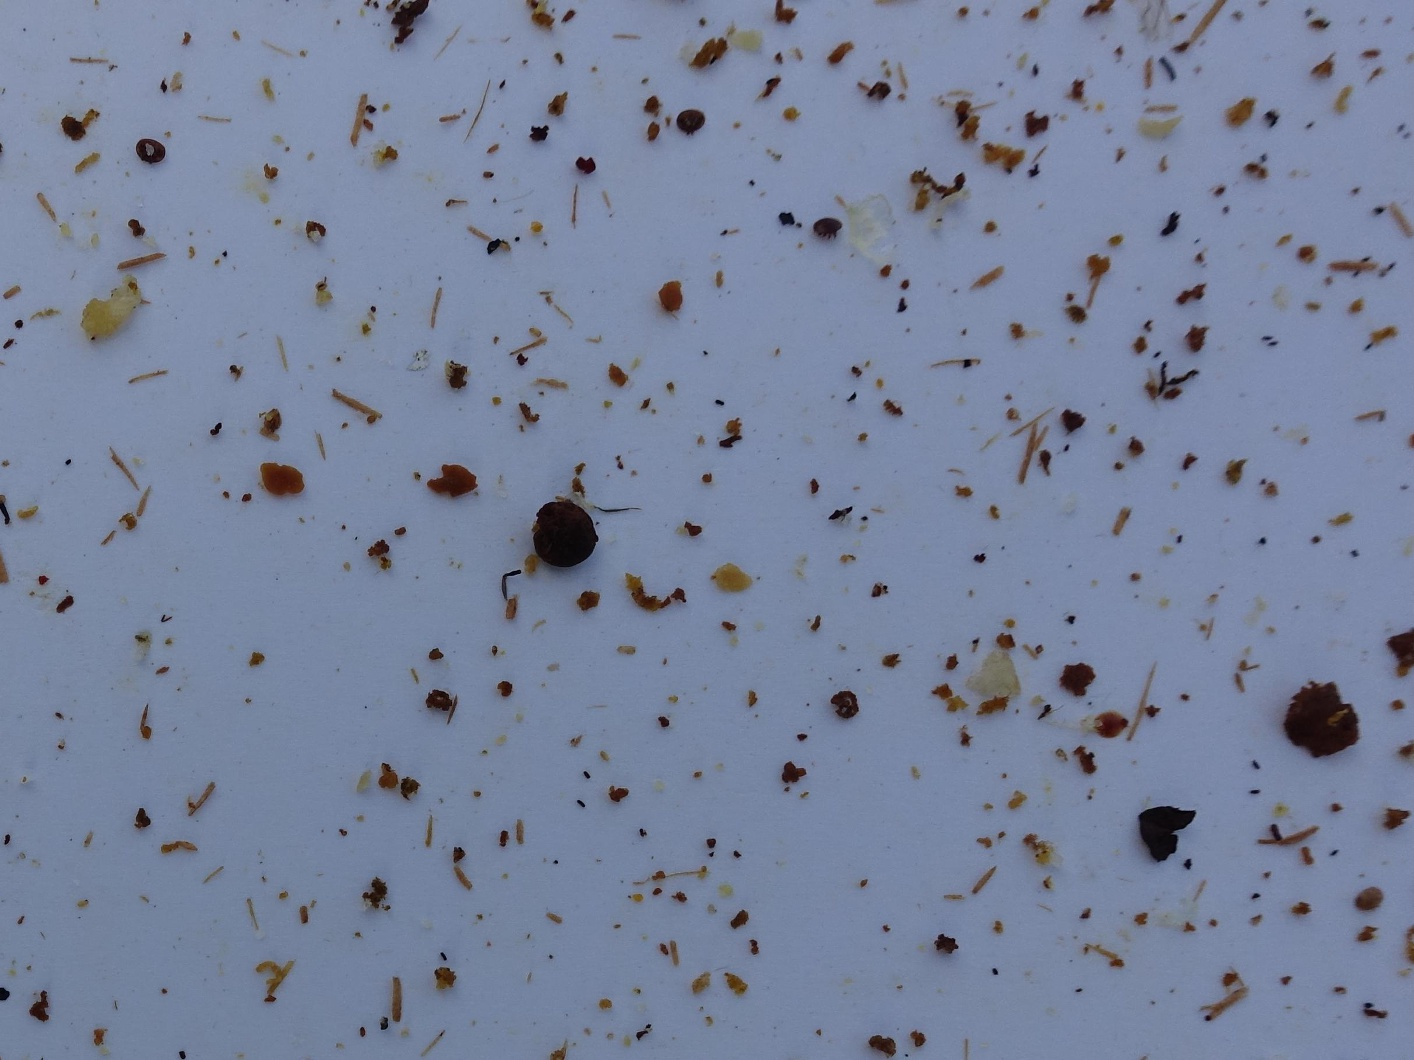Varroa: (135, 134, 170, 173), (1349, 876, 1383, 915), (675, 101, 709, 135), (816, 219, 850, 251)
